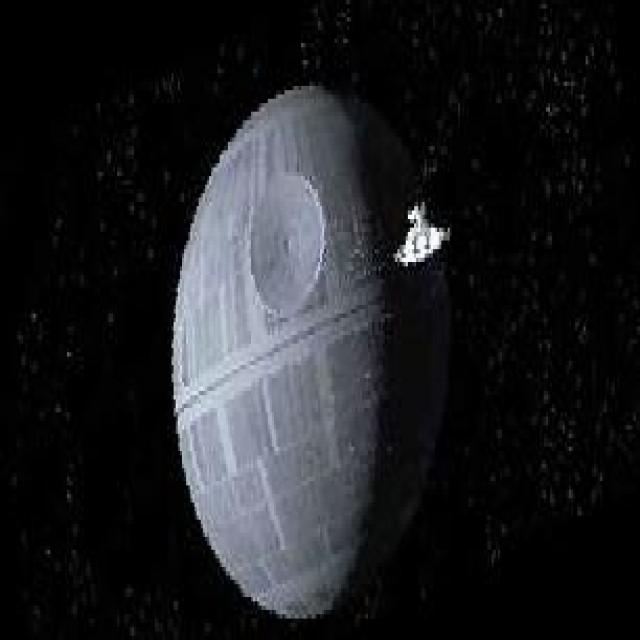Death Star: (164, 78, 458, 638)
